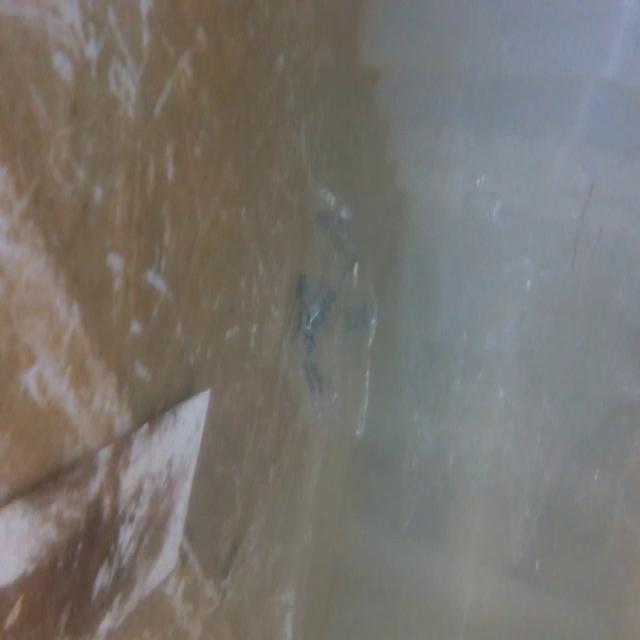plastic bags: (280, 186, 383, 458)
